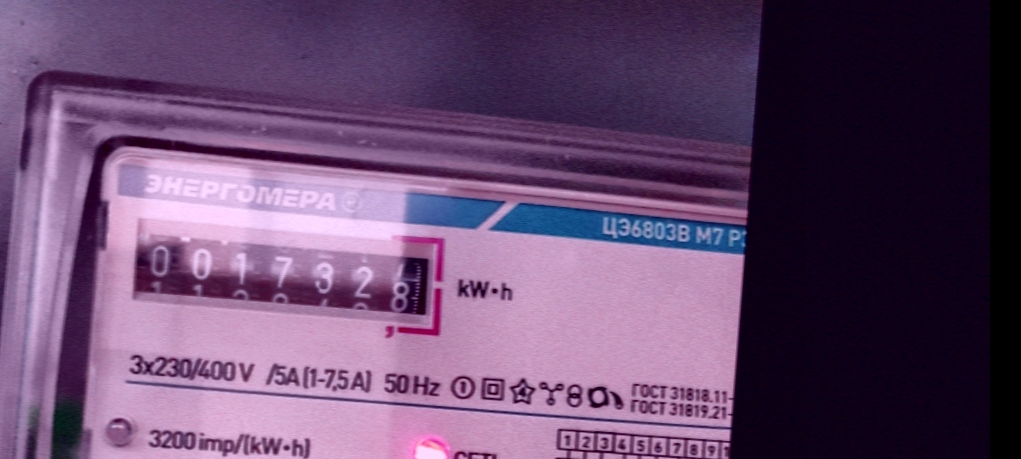0: (149, 240, 173, 279), (190, 245, 213, 280)
1: (233, 248, 250, 285)
2: (351, 263, 374, 300)
3: (311, 259, 337, 296)
7: (269, 251, 296, 290)
8: (388, 277, 410, 314)
screen: (121, 214, 450, 338)
